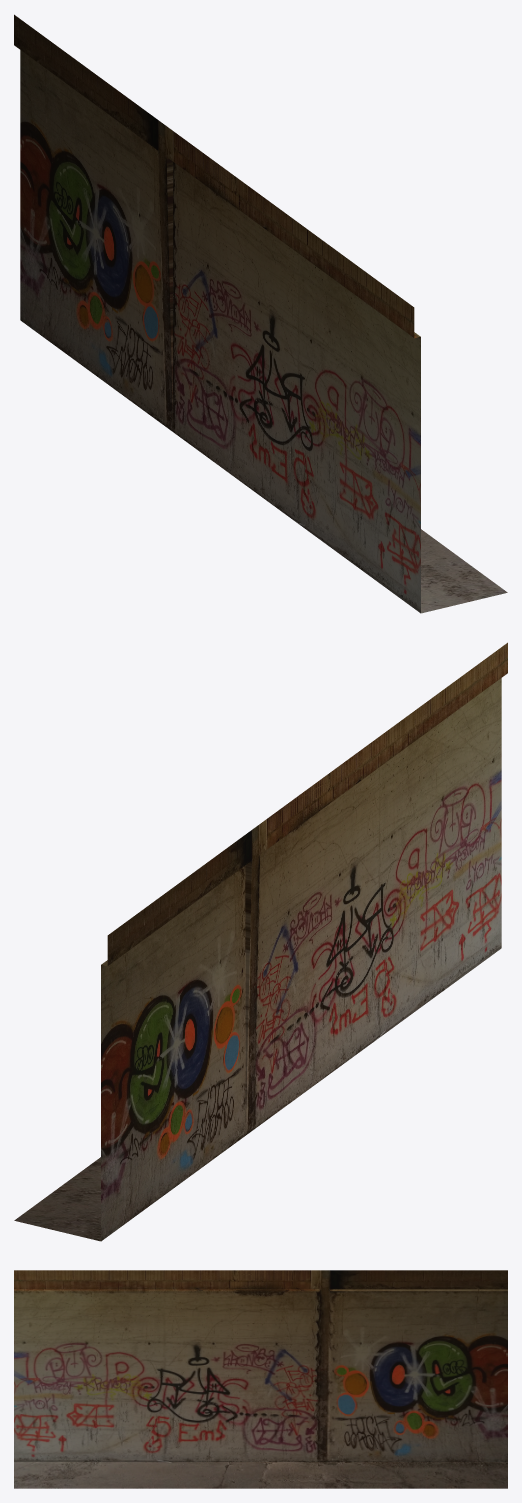
File: wall_graffiti.fbx
3 renders of one model, top to bottom at view 1: azimuth 30°, elevation 25°; view 2: azimuth 150°, elevation 25°; view 3: azimuth 270°, elevation 25°, orthographic. The views are drawn at different scales.
Parts seen in each view (by area): view 1: IMG_20210819_153329; view 2: IMG_20210819_153329; view 3: IMG_20210819_153329.
Part boxes in pixels (bbox=[...]): IMG_20210819_153329: bbox=[14, 14, 507, 613]; IMG_20210819_153329: bbox=[14, 642, 507, 1241]; IMG_20210819_153329: bbox=[14, 1270, 507, 1488].
Size of the model in its own units: 166 by 523 by 1232.
